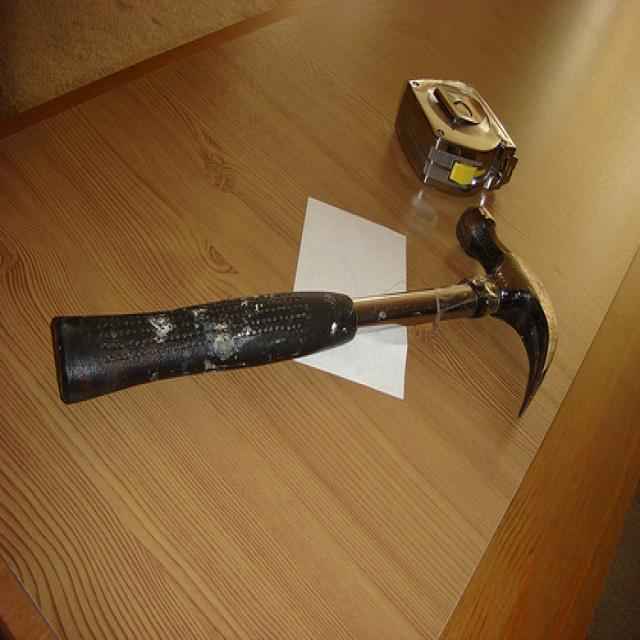hammer: (2, 211, 617, 420)
